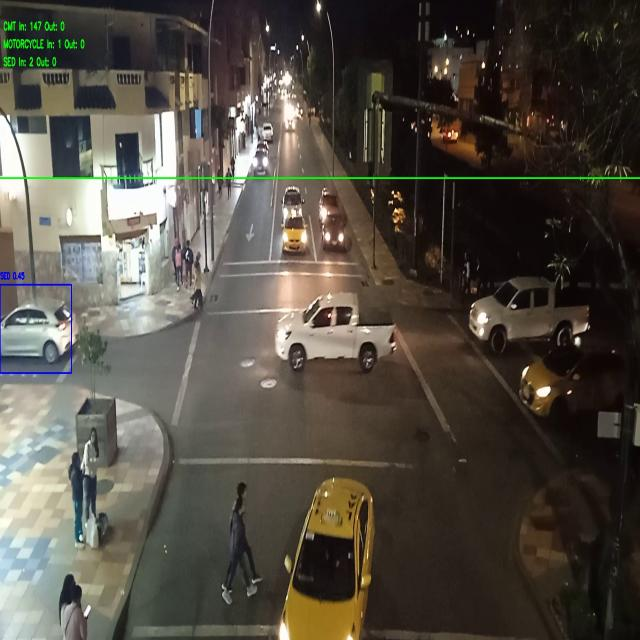CMT: (276, 293, 394, 362), (470, 277, 589, 341)
